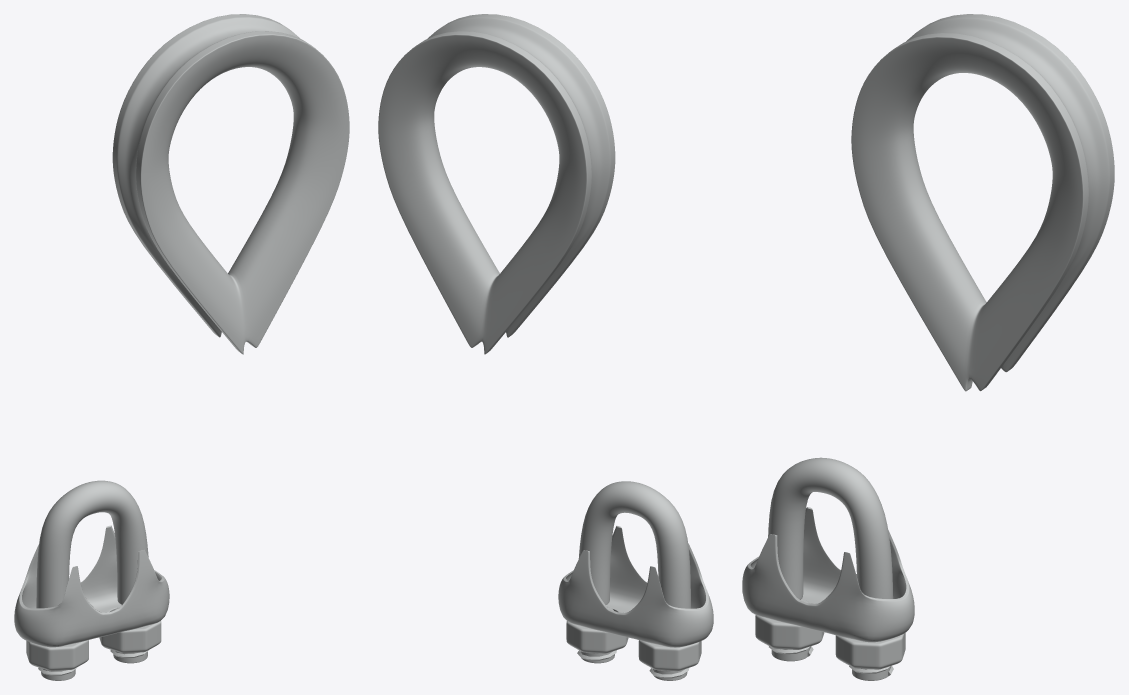
The model's file is PN 2001 seperatable.glb.
3 renders of one model, left to right at view 1: azimuth 30°, elevation 25°; view 2: azimuth 150°, elevation 25°; view 3: azimuth 330°, elevation 25°, orthographic. The views are drawn at different scales.
Visible parts, largest first — view 1: thimbles.002, galvanized_hook.002, screw.002; view 2: thimbles.002, galvanized_hook.002, screw.002; view 3: thimbles.002, galvanized_hook.002, screw.002.
Part boxes in pixels (bbox=[...]): thimbles.002: bbox=[112, 14, 349, 354]; galvanized_hook.002: bbox=[14, 480, 169, 647]; screw.002: bbox=[26, 607, 161, 680]; thimbles.002: bbox=[378, 14, 615, 354]; galvanized_hook.002: bbox=[558, 481, 713, 647]; screw.002: bbox=[566, 606, 701, 680]; thimbles.002: bbox=[851, 14, 1114, 391]; galvanized_hook.002: bbox=[742, 457, 914, 642]; screw.002: bbox=[755, 598, 905, 680].
Size of the model in its own units: 6.74 by 12.29 by 1.41.
Materials: 1 (1 with a texture image).
